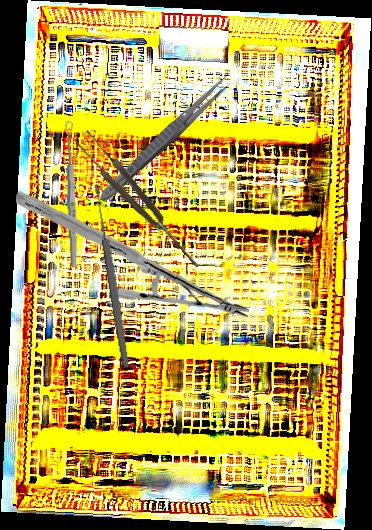Dressing Forceps: (95, 71, 235, 206)
Needle Holder: (15, 183, 250, 328)
Surgical Spoon: (91, 182, 132, 370), (64, 120, 79, 269)
Tissue Forceps: (73, 128, 205, 275)
